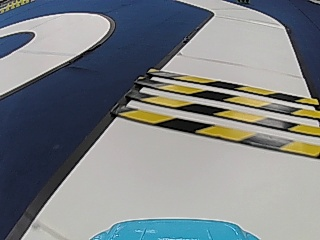bump: (112, 65, 319, 162)
